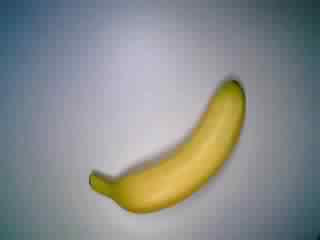banana: (86, 71, 255, 218)
